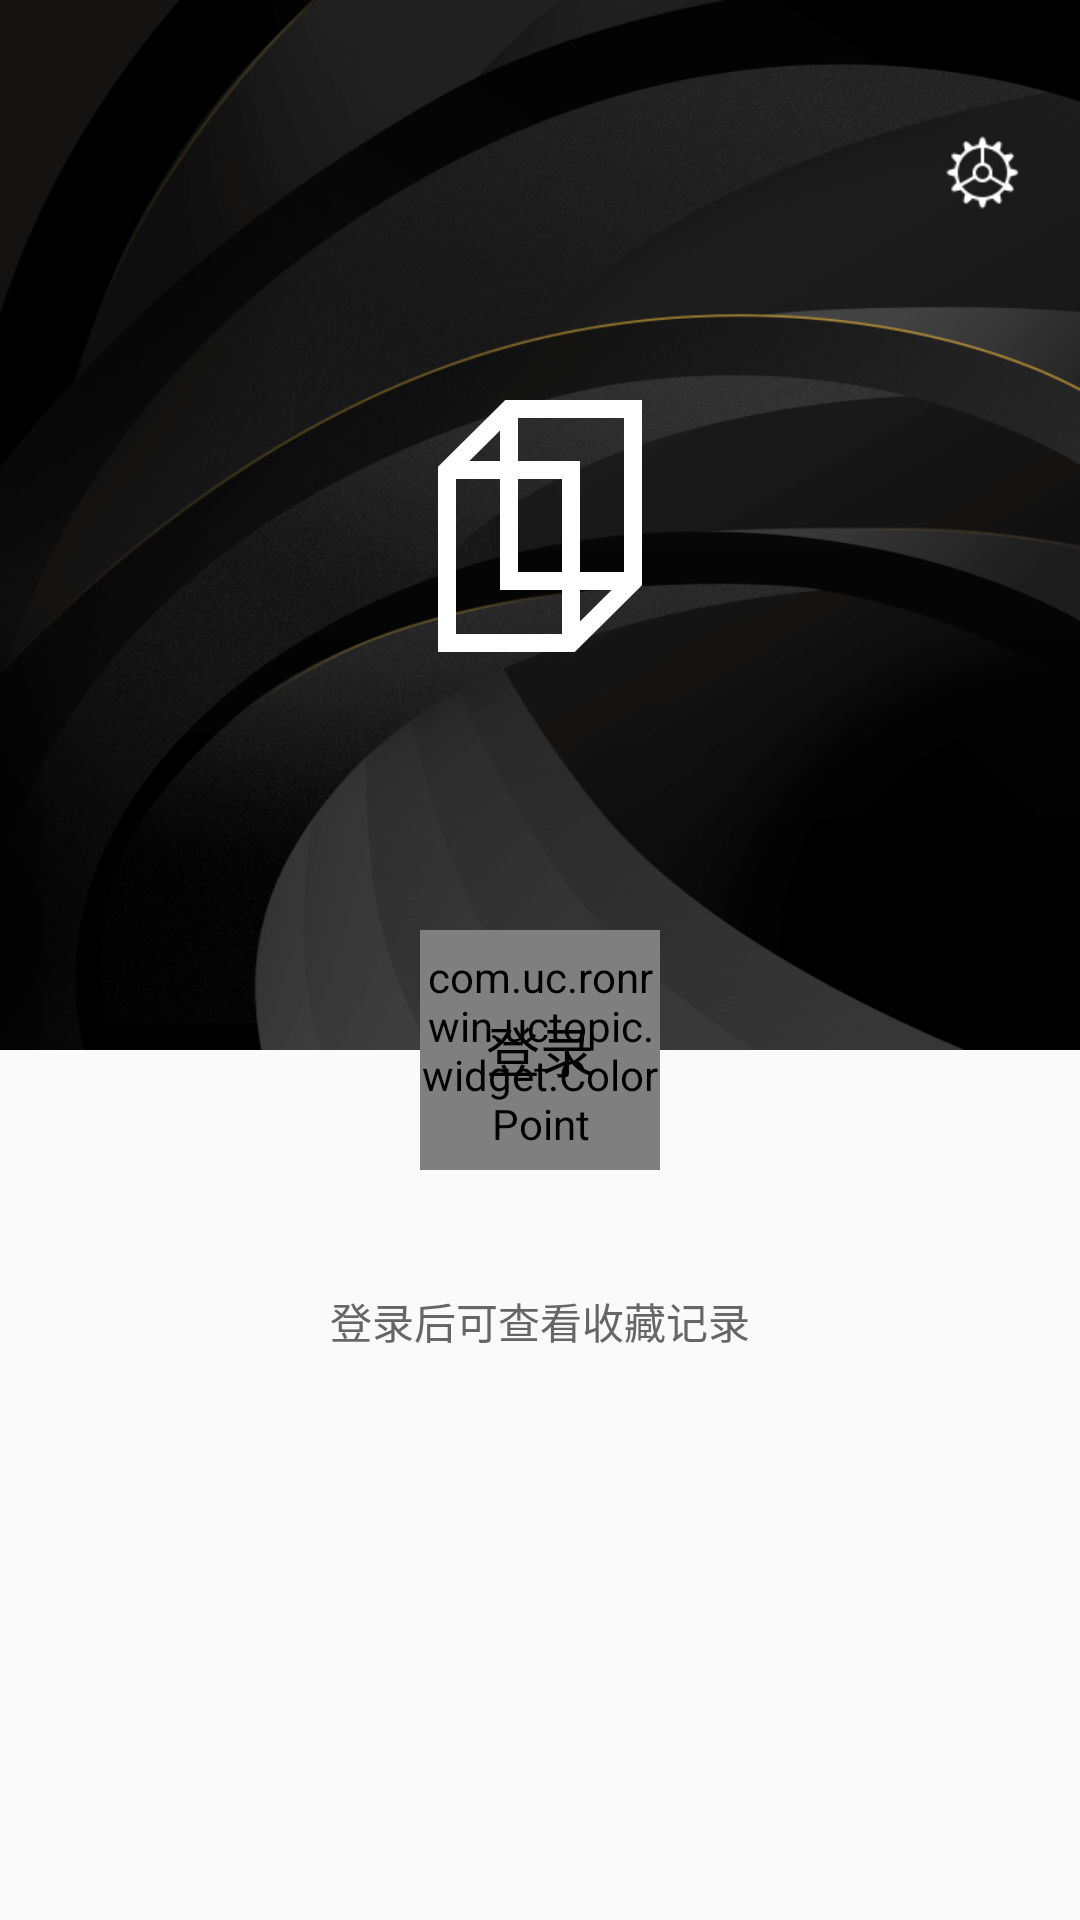

Locate icon controls on the screen. Image size 1080px x 1920px, boxes as region(x1, y1, x2, y2).
infoflow unlogin setting: region(946, 136, 1019, 209)
